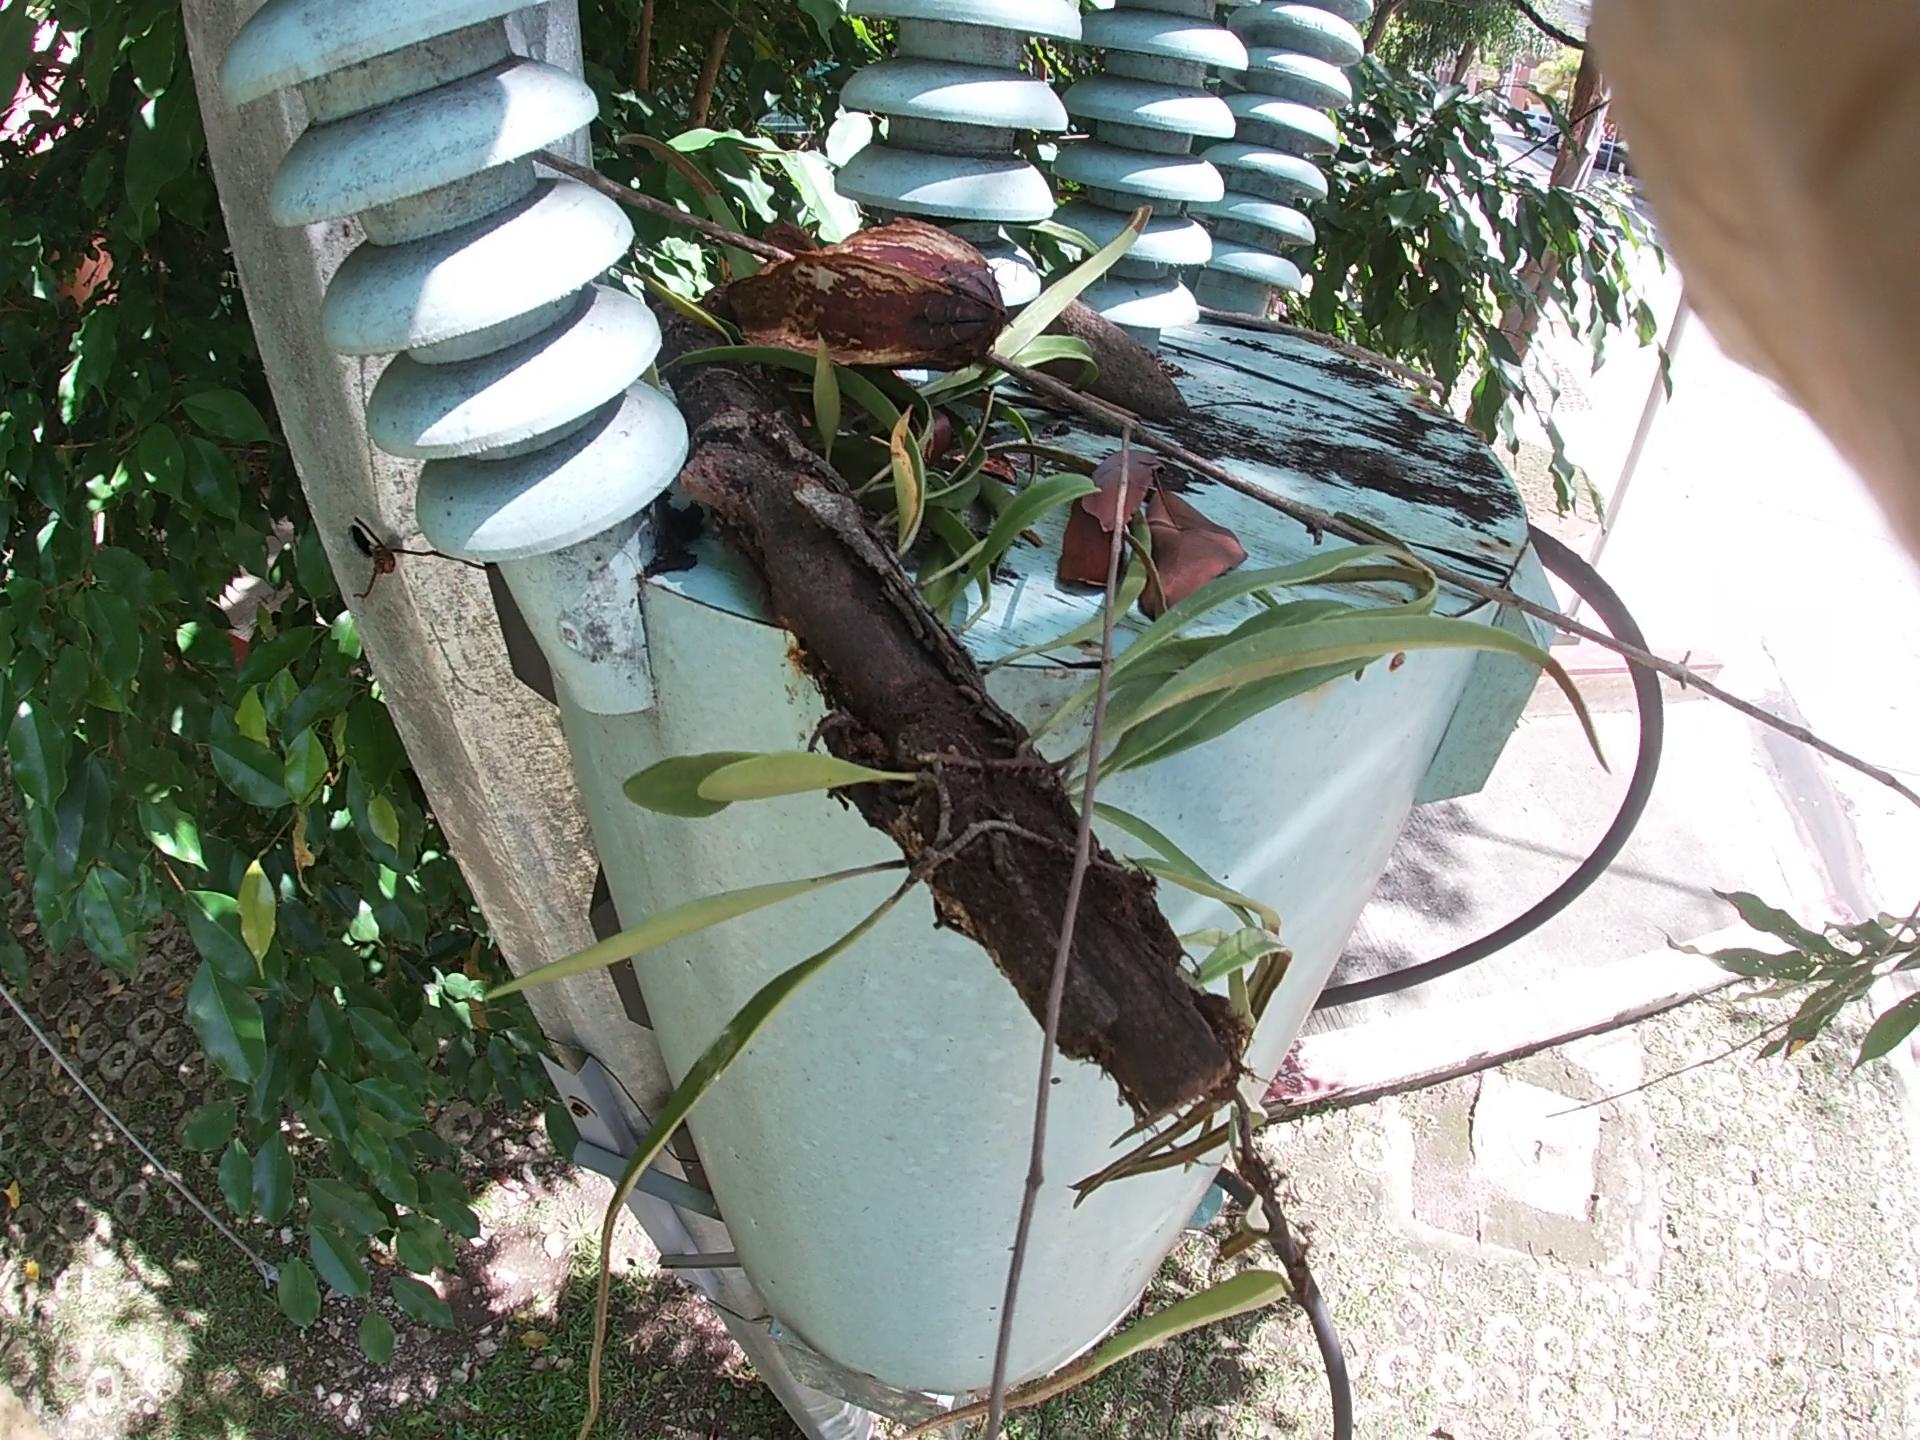branch with leaves: (505, 411, 1445, 1047)
leaf: (977, 357, 1256, 649)
tree branch: (553, 151, 1737, 790), (1175, 286, 1563, 417)
